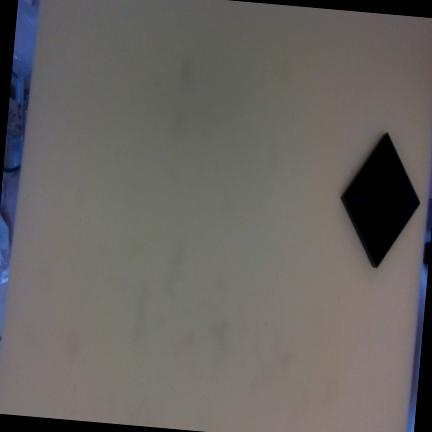tile: (327, 133, 432, 269)
